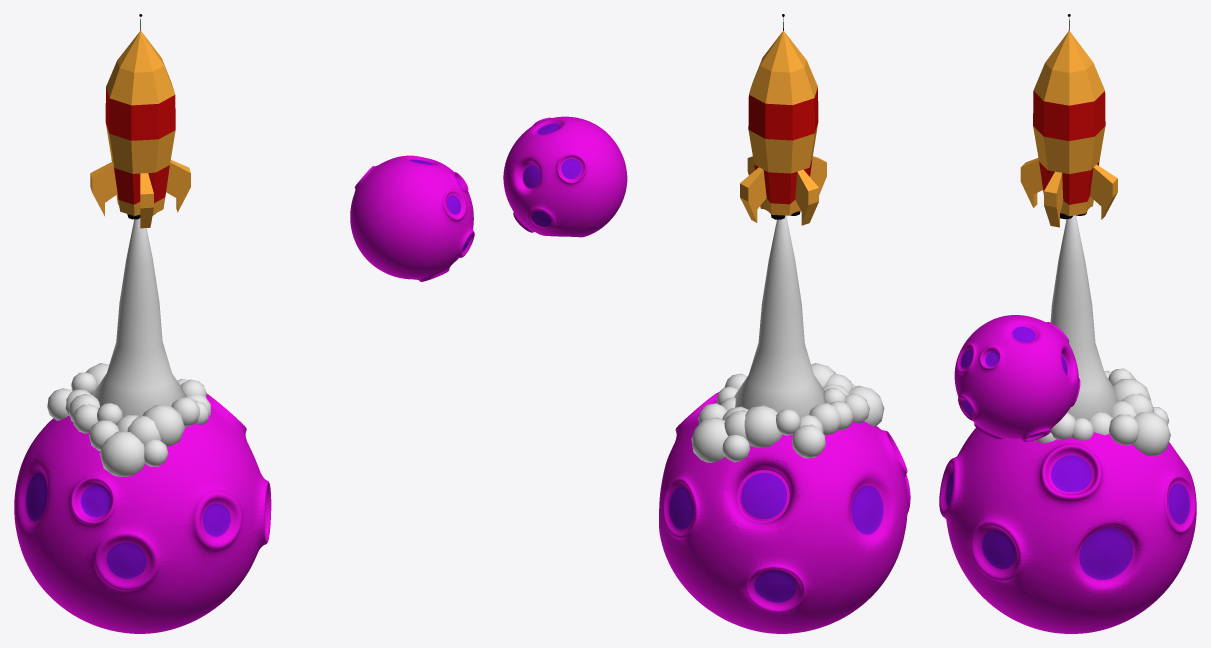
Rendered from PlanetogRaket2.fbx.
3 views of the same model, side by side, from view 1: azimuth 30°, elevation 25°; view 2: azimuth 150°, elevation 25°; view 3: azimuth 270°, elevation 25° (orthographic).
Parts seen in each view (by area): view 1: StorPlanet, LillePlanet, NyRakert, Icosphere.001, Cylinder.004; view 2: StorPlanet, LillePlanet, NyRakert, Icosphere.001, Cylinder.004; view 3: StorPlanet, LillePlanet, NyRakert, Cylinder.004, Icosphere.001.
Boxes of the visible parts, x1,y1,x2,y2 form: StorPlanet: (14, 394, 271, 633); LillePlanet: (350, 155, 474, 281); NyRakert: (90, 14, 190, 228); Icosphere.001: (47, 363, 210, 476); Cylinder.004: (92, 218, 186, 416); StorPlanet: (659, 392, 910, 633); LillePlanet: (503, 116, 627, 237); NyRakert: (740, 14, 826, 225); Icosphere.001: (691, 363, 884, 462); Cylinder.004: (734, 215, 824, 416); StorPlanet: (939, 428, 1196, 633); LillePlanet: (954, 315, 1080, 441); NyRakert: (1020, 14, 1117, 227); Cylinder.004: (1050, 215, 1118, 421); Icosphere.001: (1035, 368, 1170, 456).
Size of the model in its own units: 367 by 525 by 201.
4 materials, 1 textured.
